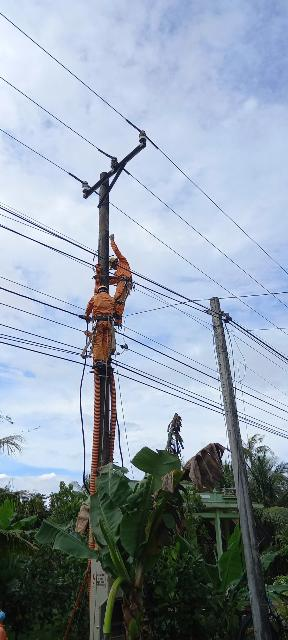gloves: (109, 233, 116, 242)
harness: (115, 275, 135, 285), (92, 315, 115, 322)
helmet: (107, 255, 118, 269), (96, 284, 110, 293)
shoes: (91, 361, 105, 368)
